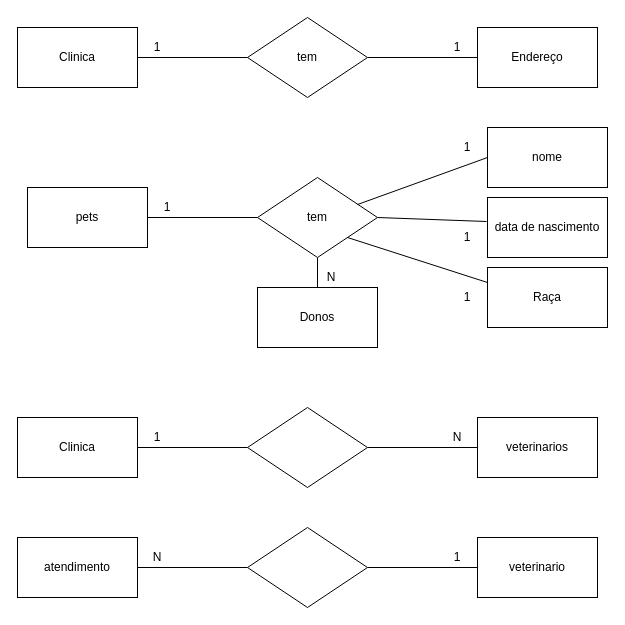
The diagram is 625 pixels wide and 625 high, and some of its shapes have lost their labels. The box of each missing label's shape, as (x1, y1, x2, y2) in pixels:
deseja cadastrar: (246, 406, 368, 488)
será feito: (246, 526, 368, 608)
